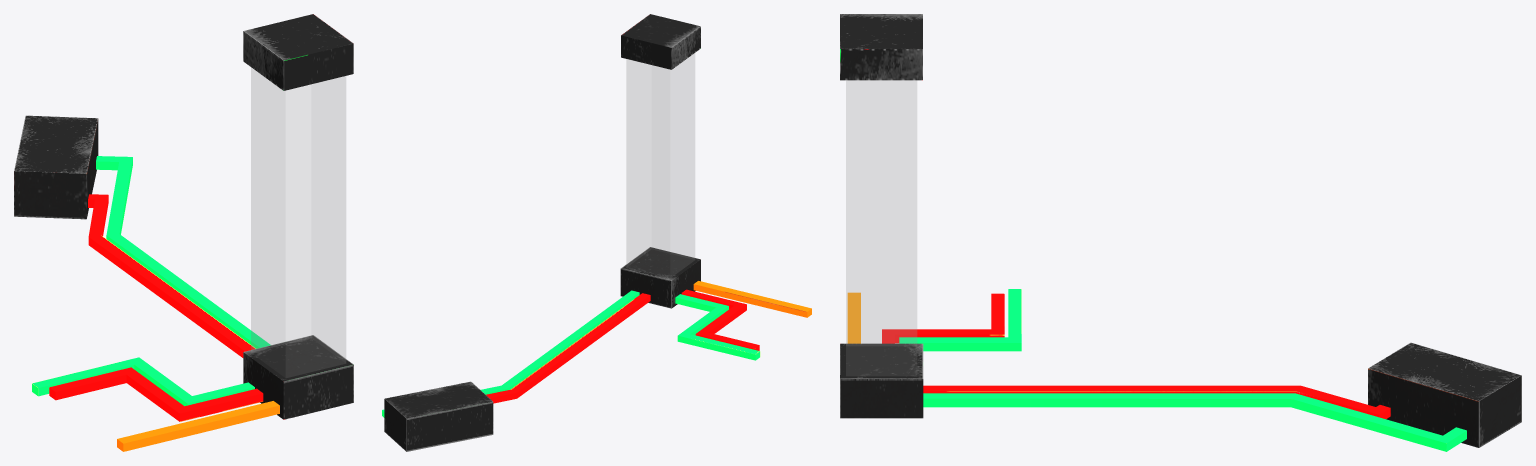
File: skeeball1powerdisplay.glb
3 renders of one model, left to right at view 1: azimuth 30°, elevation 25°; view 2: azimuth 150°, elevation 25°; view 3: azimuth 270°, elevation 25°, orthographic. The views are drawn at different scales.
Visible parts, largest first — view 1: powerDisplayBase, powerDisplayGlass; view 2: powerDisplayBase, powerDisplayGlass; view 3: powerDisplayBase, powerDisplayGlass.
Boxes of the visible parts, x1,y1,x2,y2 form: powerDisplayBase: (14,14,353,451); powerDisplayGlass: (251,67,345,377); powerDisplayBase: (382,14,811,451); powerDisplayGlass: (626,53,694,277); powerDisplayBase: (840,14,1521,451); powerDisplayGlass: (846,80,916,375).
Size of what is drawn, in the model's own units: 2.7 by 3.03 by 5.04.
Materials: 2 (1 with a texture image).
